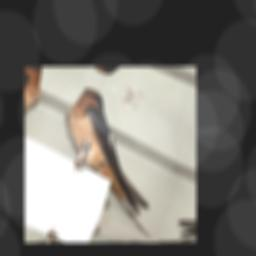Swallow: (43, 83, 190, 236)
